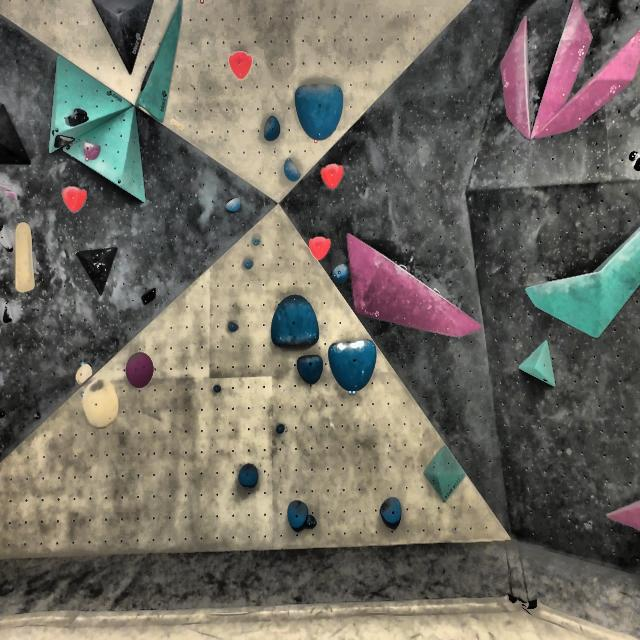Hold: (349, 232, 481, 346), (536, 28, 640, 148), (532, 1, 597, 125), (497, 11, 532, 136), (294, 82, 348, 144), (332, 336, 384, 396), (266, 297, 324, 343), (13, 218, 42, 294), (83, 380, 120, 424), (603, 489, 640, 528), (124, 349, 156, 389), (298, 353, 328, 393), (318, 161, 348, 195), (259, 112, 286, 149), (280, 156, 309, 188), (223, 51, 253, 81), (62, 185, 88, 218), (137, 58, 159, 97), (305, 237, 335, 264), (375, 499, 405, 526), (320, 163, 348, 190), (0, 219, 18, 259), (241, 459, 263, 491), (286, 506, 314, 529), (85, 136, 110, 160), (65, 103, 89, 127), (331, 260, 351, 286), (72, 364, 96, 384), (52, 130, 71, 154), (0, 183, 21, 203), (3, 304, 19, 329), (246, 234, 266, 250), (239, 255, 259, 271), (224, 196, 242, 213), (272, 422, 289, 436), (228, 319, 239, 332)
